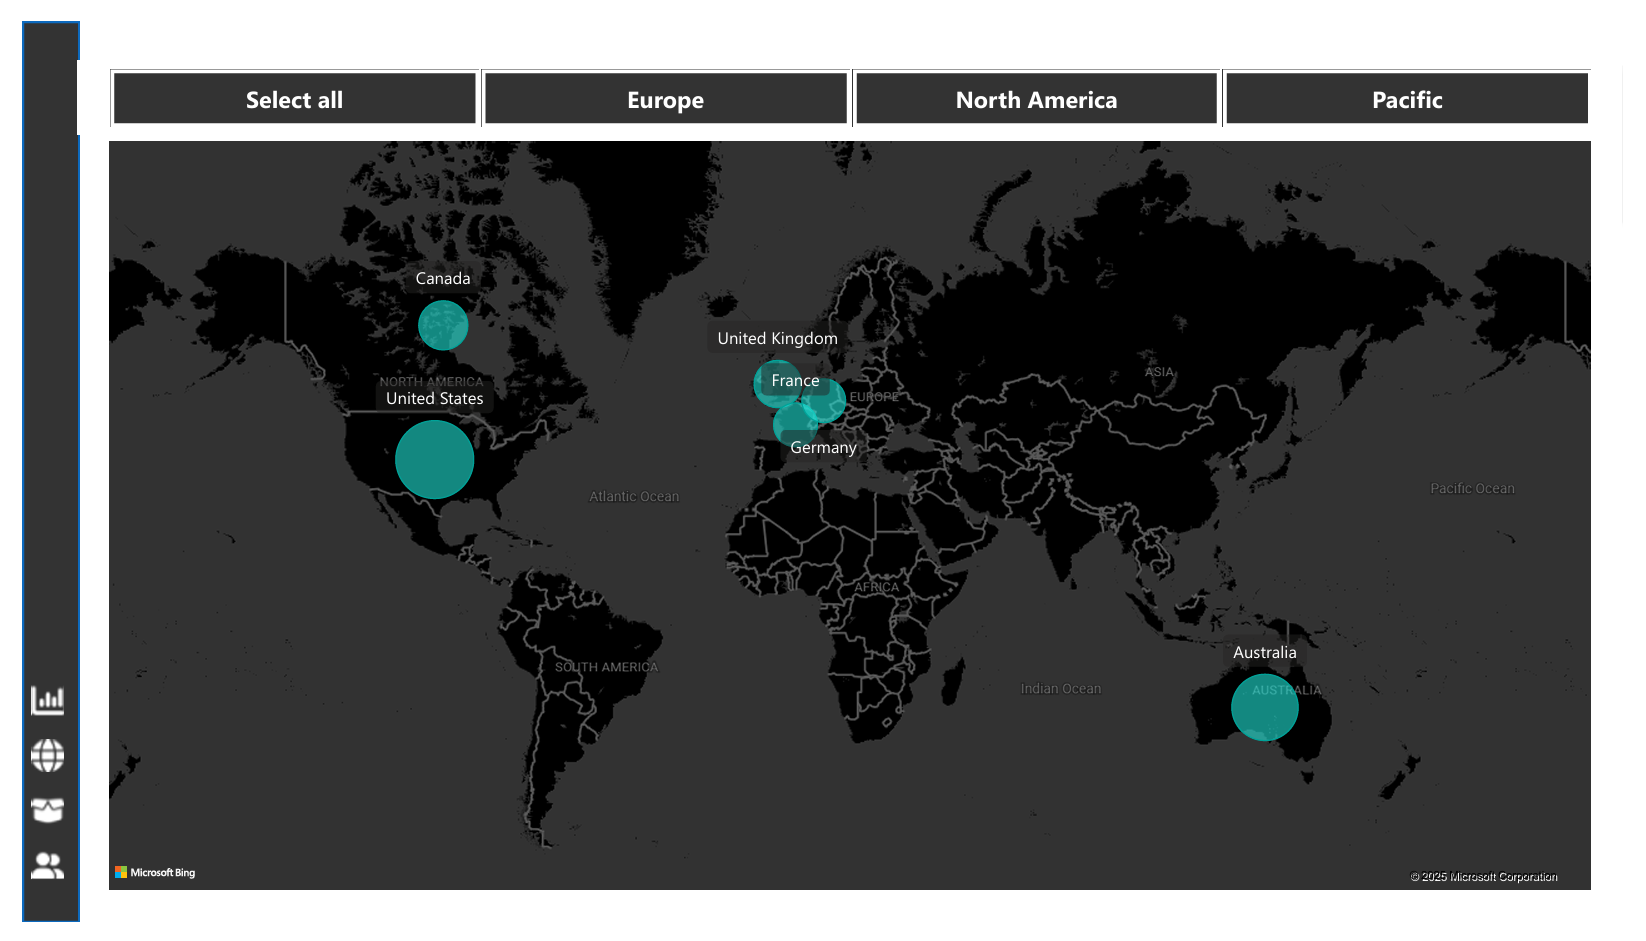

This screenshot's page, from the dashboard's own definition file:
{"tool":"powerbi","page":{"name":"Map","canvas":[1280,720],"ordinal":1},"visuals":[{"type":"shape","box":[0,0,45,720.3],"z":0},{"type":"map","fields":{"Category":["Territory Lookup.Country"],"Size":["Measure Table.Total Orders"]},"box":[63.9,90.6,1195.2,609.8],"z":1000},{"type":"actionButton","box":[3.1,525.8,38.1,34],"z":1000,"group":"g1"},{"type":"slicer","fields":{"Values":["Territory Lookup.Continent"]},"box":[44.1,31.4,1234.7,59.2],"z":2000},{"type":"actionButton","box":[3.1,569.8,38.1,34],"z":2000,"group":"g1"},{"type":"group","id":"g1","title":"Navigation Buttons","box":[3.1,525.8,38.1,166],"z":3000},{"type":"actionButton","box":[3.1,613.8,38.1,34],"z":3000,"group":"g1"},{"type":"actionButton","box":[3.1,657.8,38.1,34],"z":4000,"group":"g1"}]}

Visuals, with their boxes in screenshot pixels (x1, y1, x2, y2):
shape: {"left": 17, "top": 26, "right": 72, "bottom": 907}
map - Territory Lookup.Country x Measure Table.Total Orders: {"left": 95, "top": 137, "right": 1557, "bottom": 882}
actionButton: {"left": 21, "top": 669, "right": 68, "bottom": 710}
slicer - Territory Lookup.Continent: {"left": 71, "top": 64, "right": 1581, "bottom": 137}
actionButton: {"left": 21, "top": 723, "right": 68, "bottom": 764}
"Navigation Buttons" group: {"left": 21, "top": 669, "right": 68, "bottom": 872}
actionButton: {"left": 21, "top": 777, "right": 68, "bottom": 818}
actionButton: {"left": 21, "top": 830, "right": 68, "bottom": 872}
